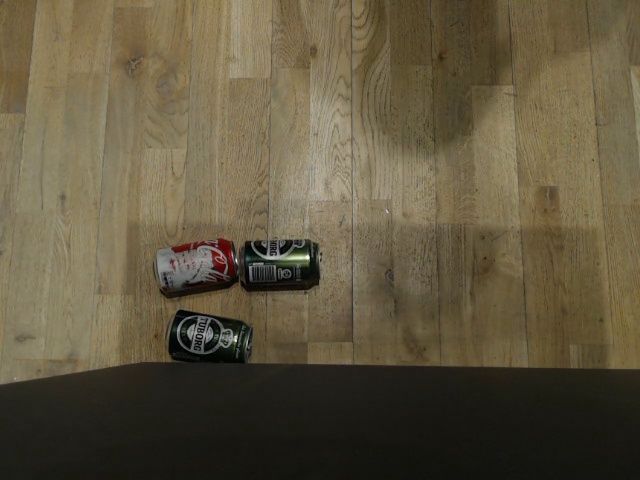beer: (239, 232, 327, 293), (160, 310, 255, 364)
cola: (134, 233, 227, 295)
